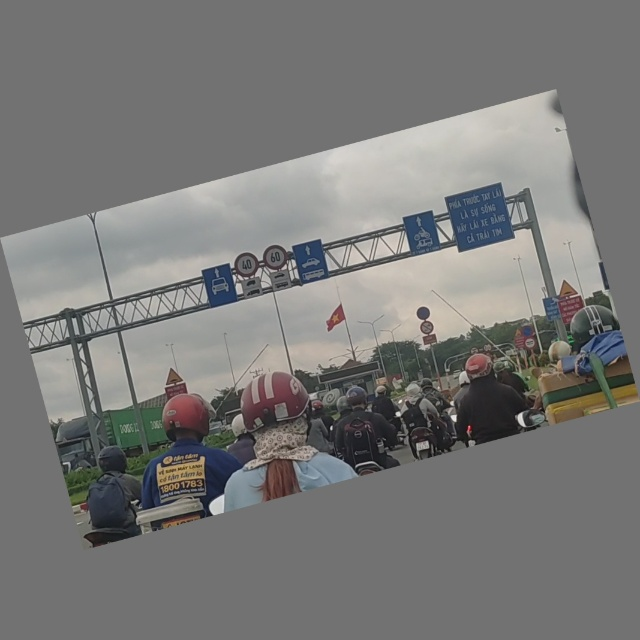Camera: (542, 295, 563, 322)
P.107: (468, 346, 480, 357), (482, 343, 494, 354)
P.111: (419, 321, 436, 336)
P.127*40: (230, 250, 263, 281)
P.127*60: (260, 243, 291, 273)
P.129: (524, 337, 537, 351)
P.130: (415, 306, 432, 322)
P.131a: (521, 325, 534, 339)
W.221b: (555, 278, 578, 300), (162, 366, 184, 387), (512, 327, 522, 338)
